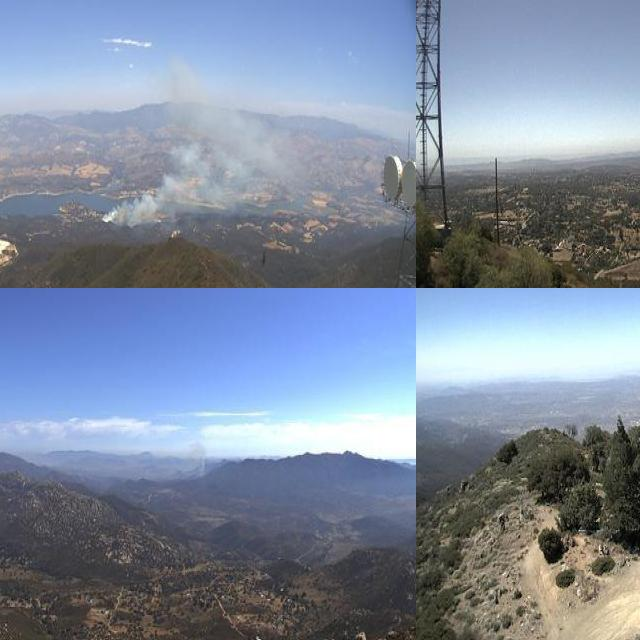smoke: (99, 49, 322, 230), (174, 435, 210, 479)
